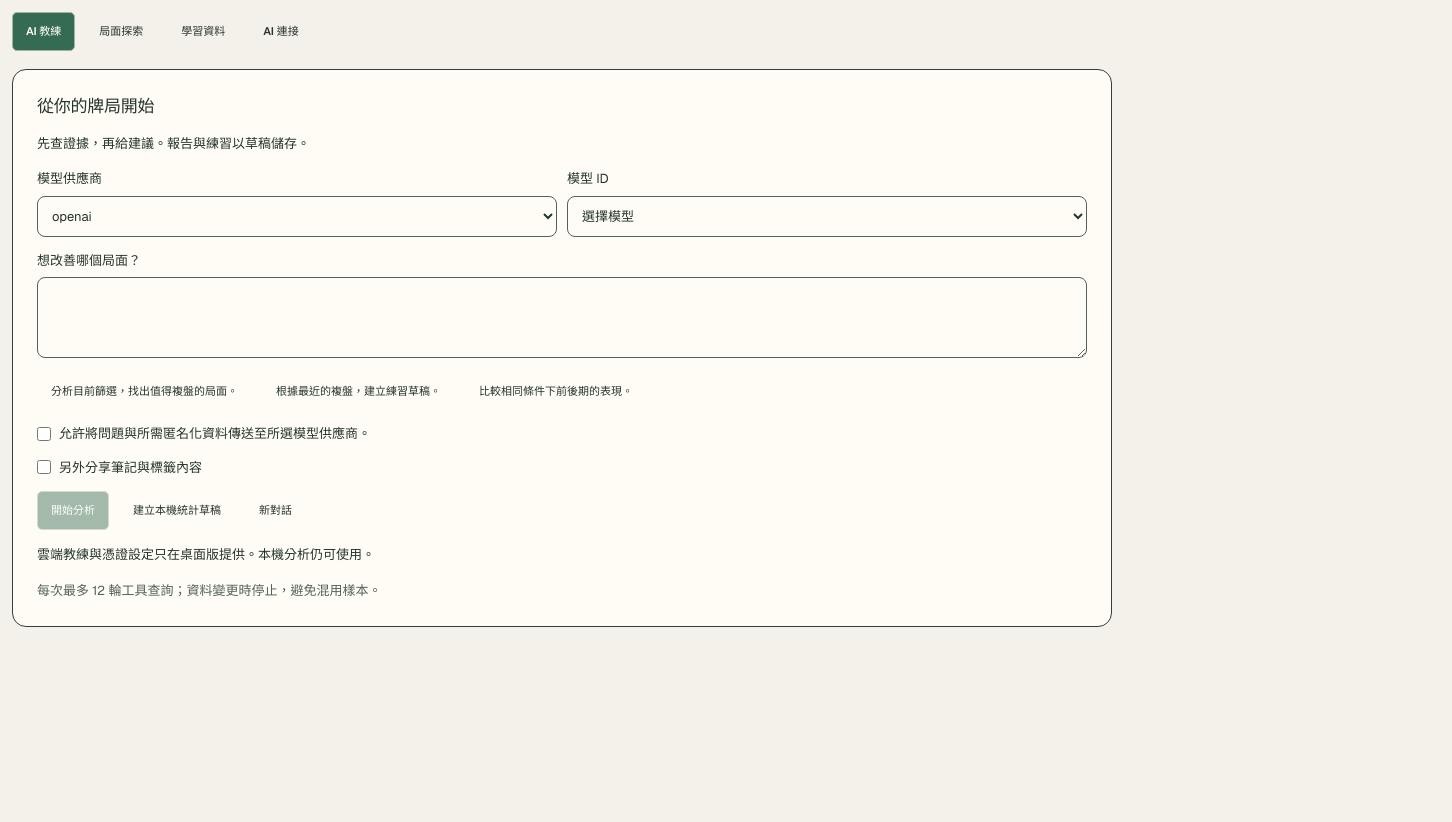
Test case: selects new providers in coach and connections and clears incompatible model
Step 1. Select "gpt-4.1" in the dropdown labelled "模型 ID" → (827, 216), box 567,196 -> 1087,237
Step 2. Select "deepseek" in the dropdown labelled "模型供應商" → (297, 216), box 37,196 -> 557,237
Step 3. Select "deepseek-flash" in the dropdown labelled "模型 ID" → (827, 216), box 567,196 -> 1087,237
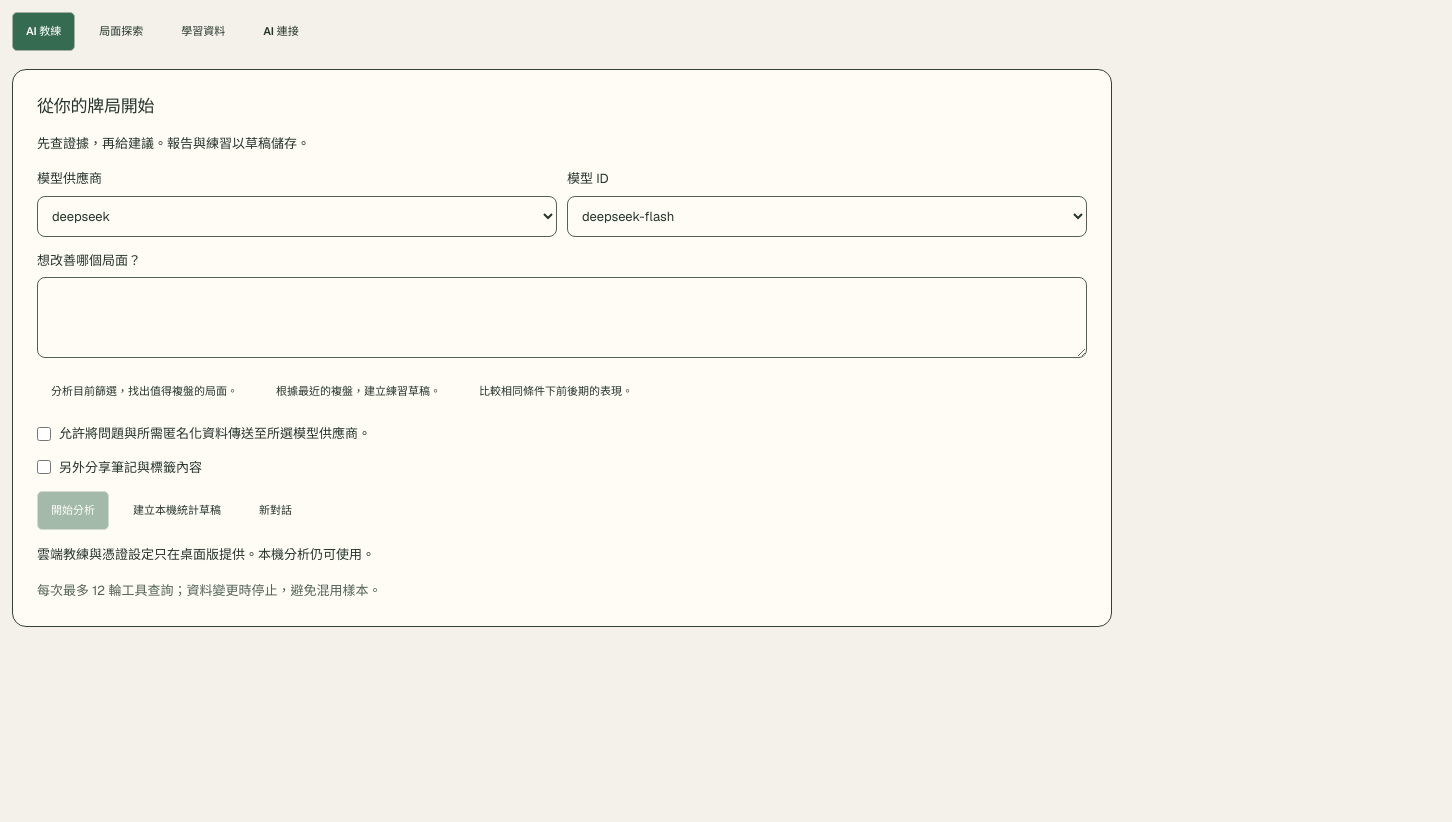
Step 4. Select "opencode-go" in the dropdown labelled "模型供應商" → (297, 216), box 37,196 -> 557,237
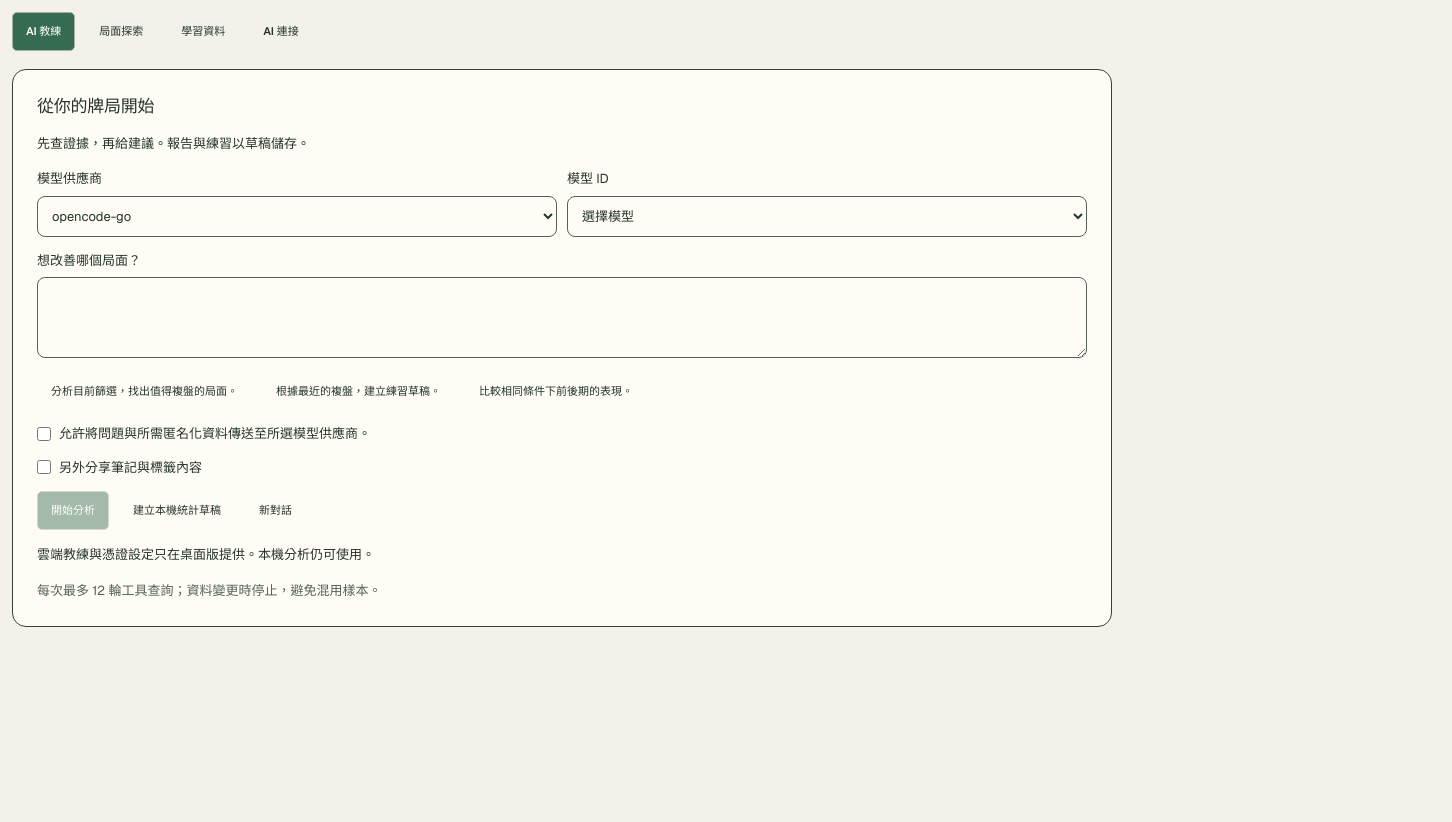
Step 5. Select "glm-5.3-flash" in the dropdown labelled "模型 ID" → (827, 216), box 567,196 -> 1087,237
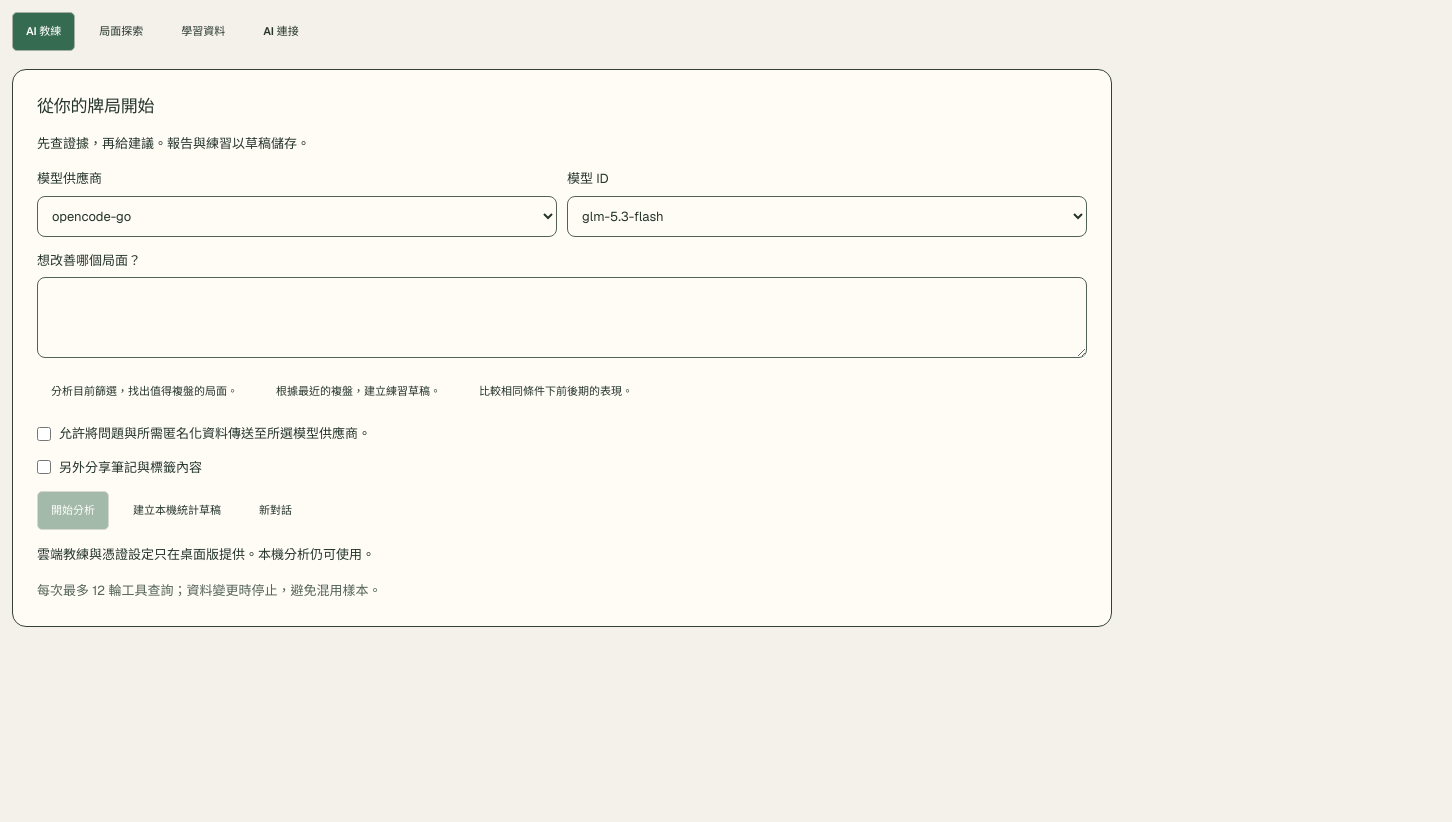
Step 6. Click the button "AI 連接" → (281, 31), box 249,12 -> 313,50
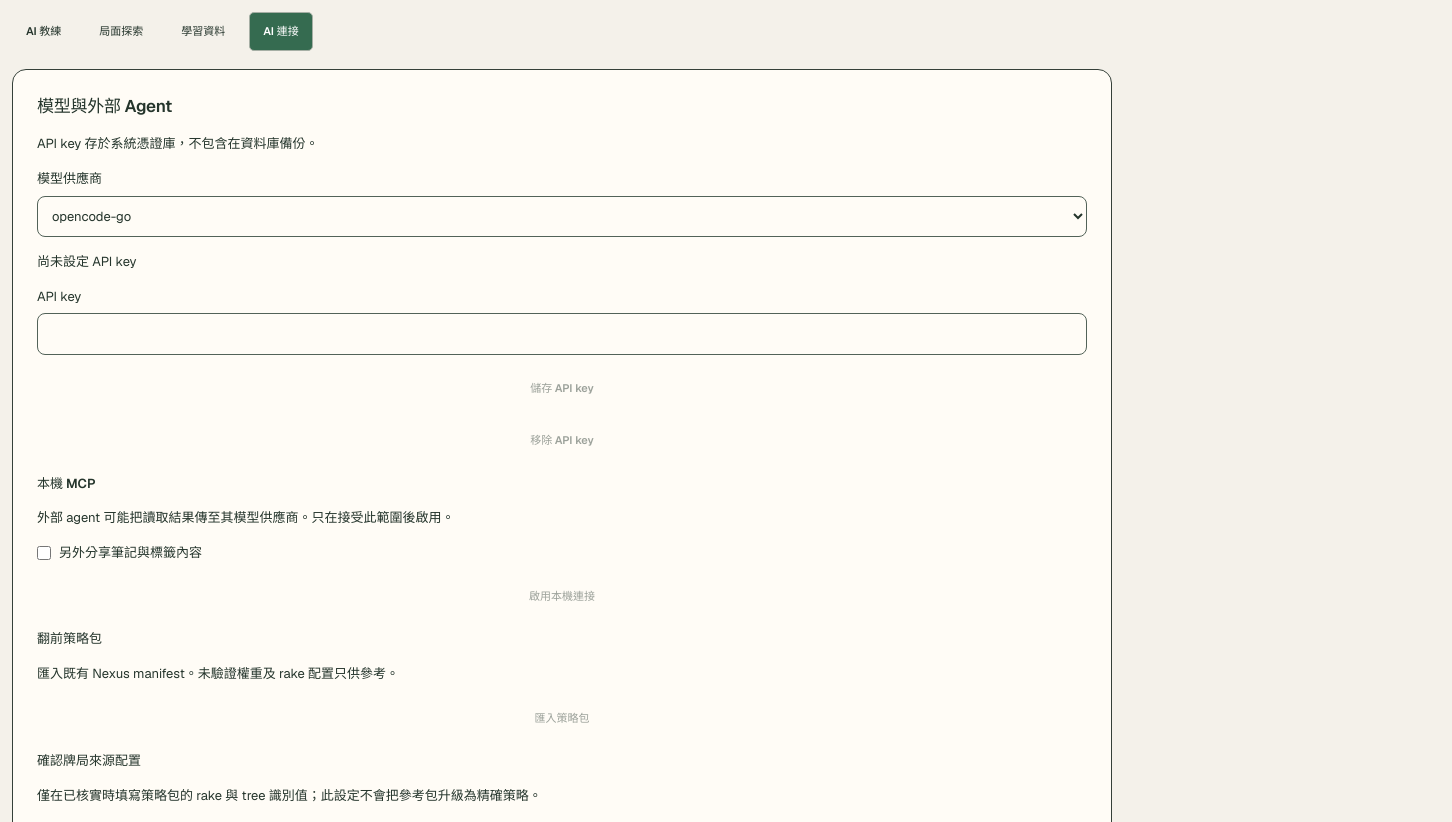
Step 7. Select "gemini" in the dropdown labelled "模型供應商" → (562, 216), box 37,196 -> 1087,237
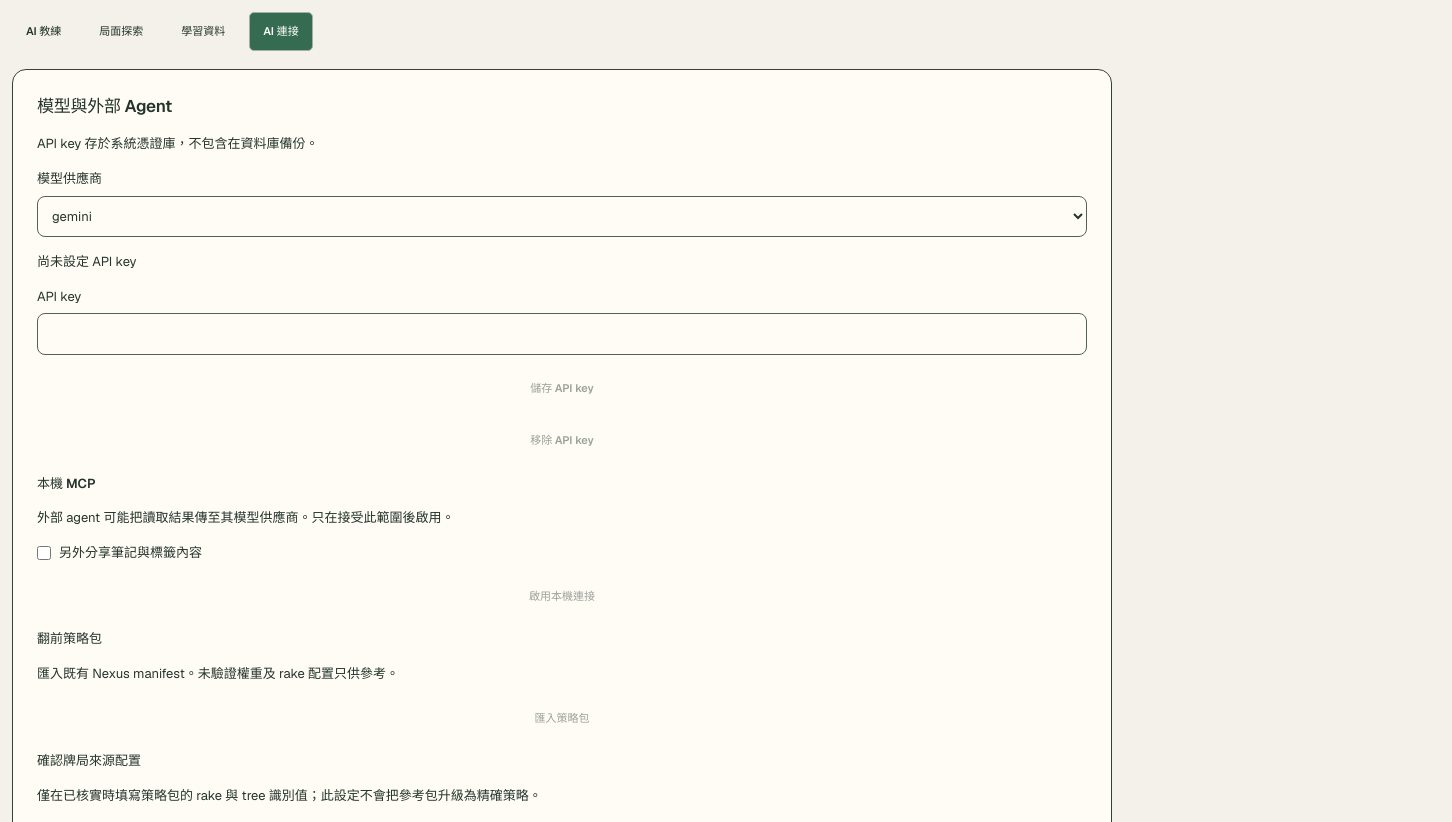
Step 8. Click the button "AI 教練" → (44, 31), box 12,12 -> 75,50
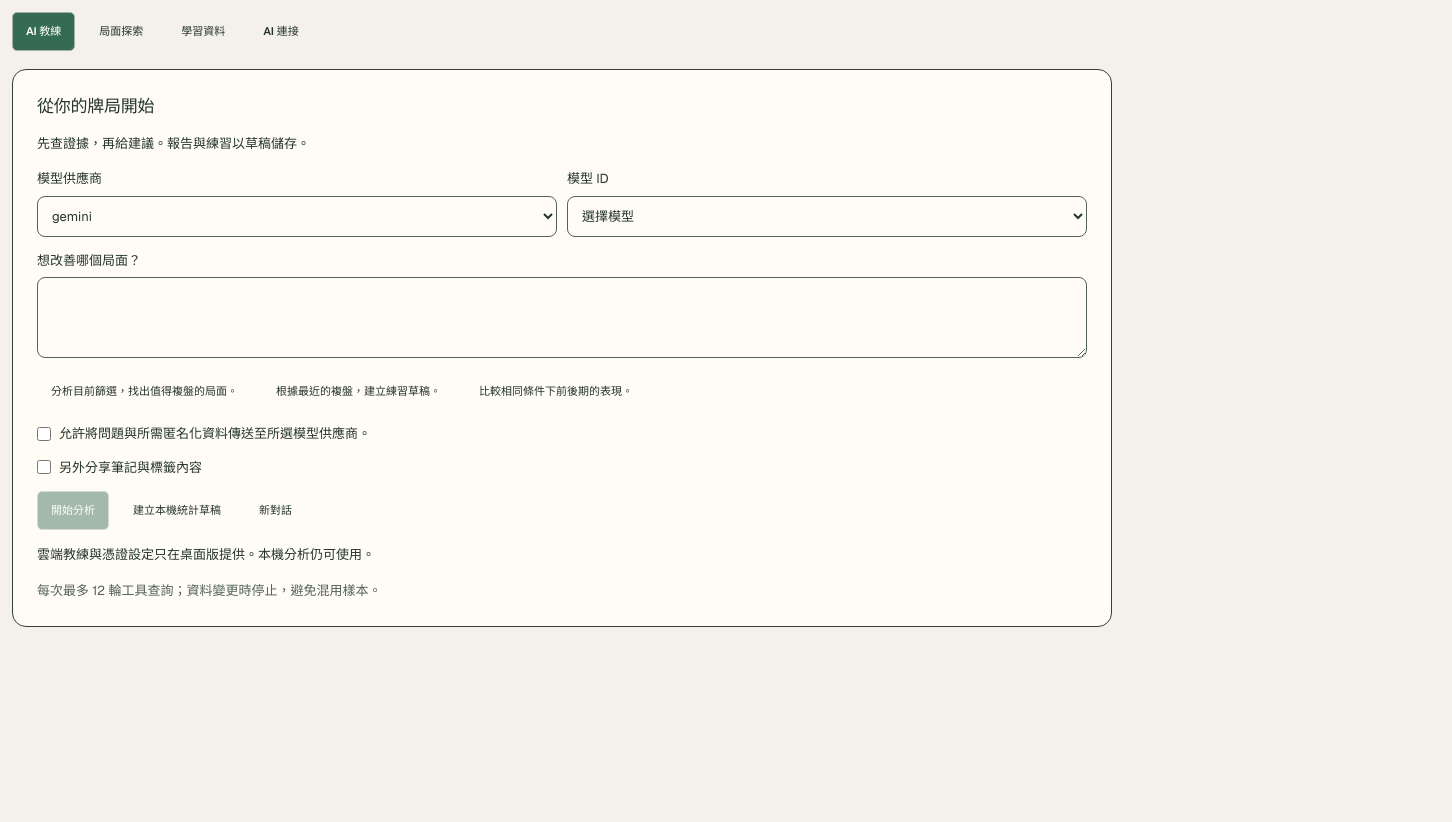
Check: the dropdown labelled "模型 ID" shows "選擇模型", box 567,196 -> 1087,237
